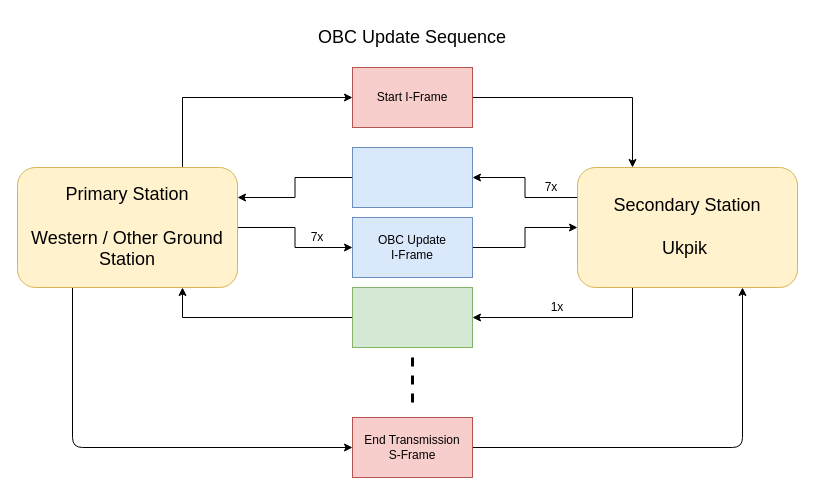
The diagram is 815 pixels wide and 495 high, and some of its shapes have lost their labels. The shapes that lost their labels are listed below. From the top down, each one's centre as x and y in pixels, then its label:
At [412,177]: "TT&C I-Frame".
At [412,317]: "Acknowledge S-Frame".
